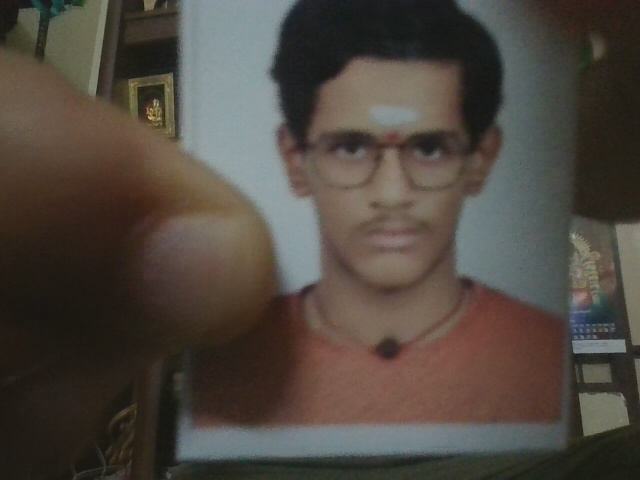fake: (275, 63, 510, 298)
